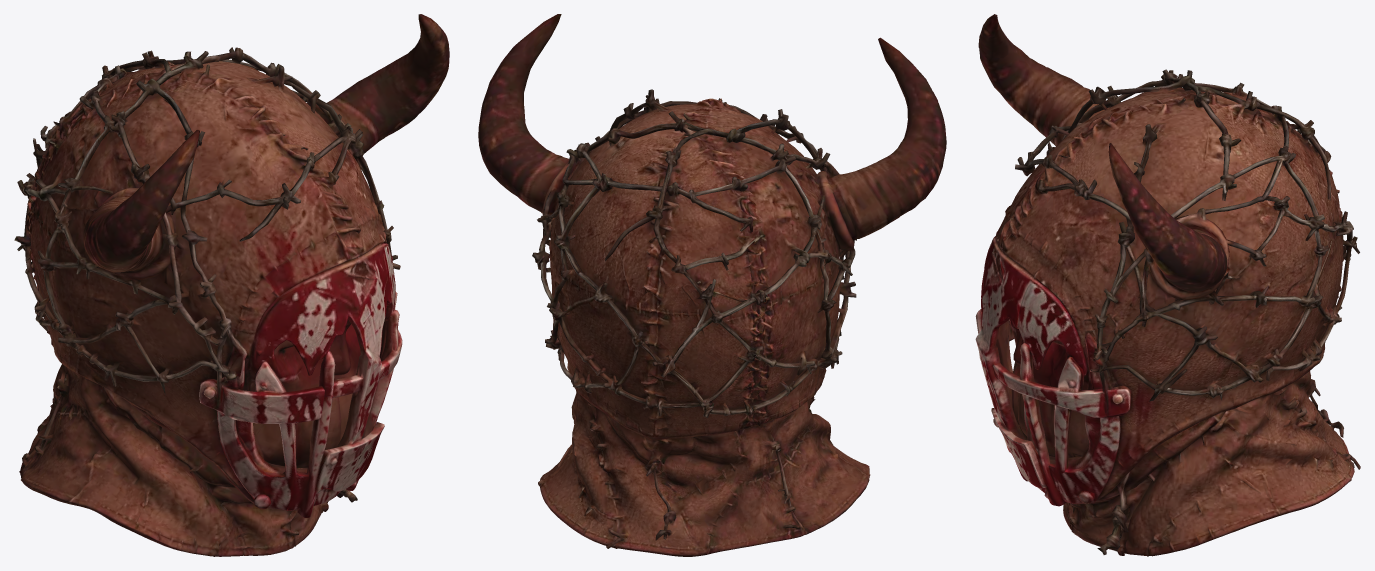
File: helmet-tagilla-2.glb
3 views of the same model, side by side, from view 1: azimuth 30°, elevation 25°; view 2: azimuth 150°, elevation 25°; view 3: azimuth 270°, elevation 25° (orthographic). The views are drawn at different scales.
Visible parts, largest first — view 1: tripo_node_bf854756-f1e5-4de2-a319-30133b4b0716; view 2: tripo_node_bf854756-f1e5-4de2-a319-30133b4b0716; view 3: tripo_node_bf854756-f1e5-4de2-a319-30133b4b0716.
Part boxes in pixels (<box>): tripo_node_bf854756-f1e5-4de2-a319-30133b4b0716: <box>14,14,449,556</box>; tripo_node_bf854756-f1e5-4de2-a319-30133b4b0716: <box>478,14,946,556</box>; tripo_node_bf854756-f1e5-4de2-a319-30133b4b0716: <box>975,14,1360,556</box>.
Bounding box in the file's own units: 0.8823 × 0.9814 × 0.7479.
1 material, 1 textured.
